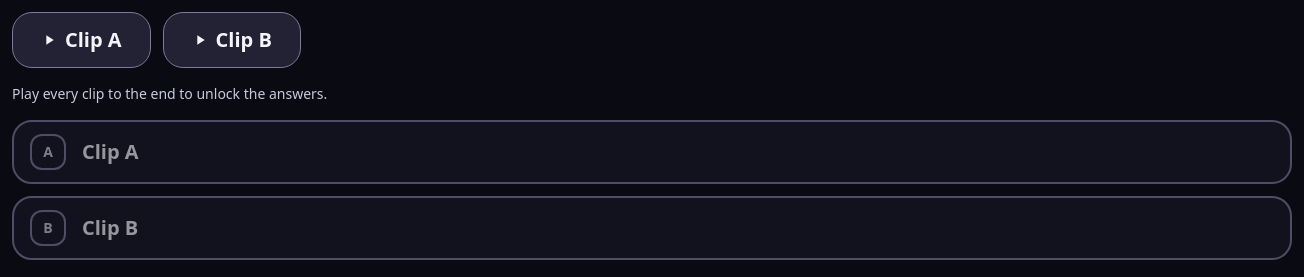
Test case: ByEar: gating the options › keeps the options disabled until every clip has been played to the end
Expected: the button "A Clip A" is disabled, [12,120,1292,184]
Expected: the text "Play every clip to the end to unlock the answers." is shown, [12,84,327,103]
Click the button with aria-label "Play clip A" at [81, 40], box [12,12,151,68]
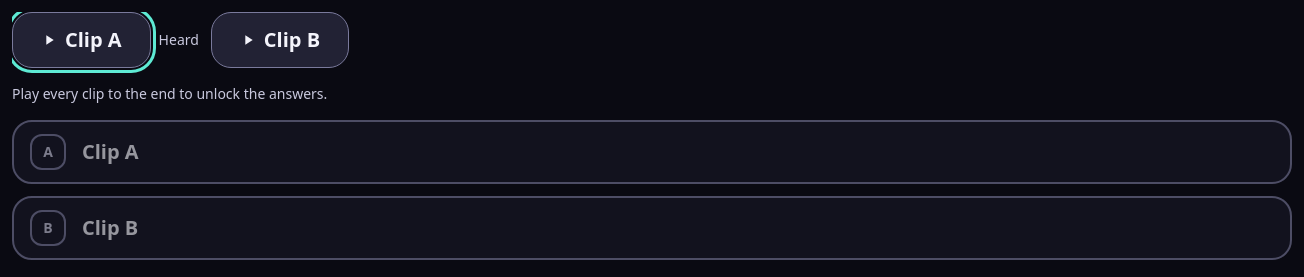
Expected: the button "A Clip A" is disabled, [12,120,1292,184]
Click the button with aria-label "Play clip B" at [280, 40], box [211,12,349,68]
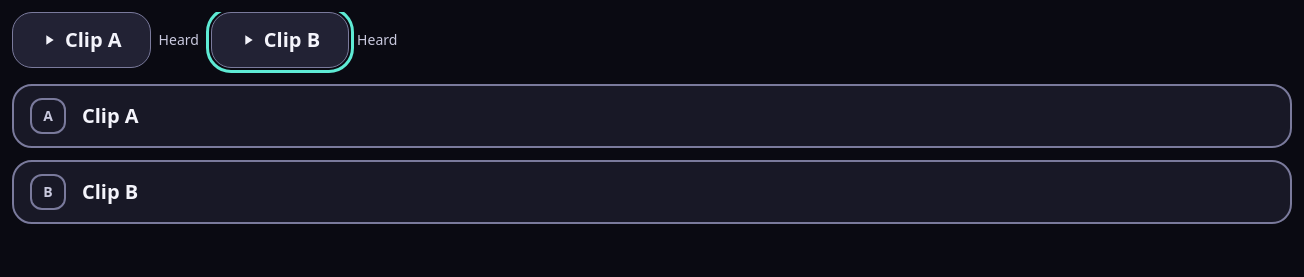
Expected: the button "A Clip A" is enabled, [12,84,1292,148]
Expected: the button "B Clip B" is enabled, [12,160,1292,224]
Expected: the text "Heard" is shown 2 times, [159,30,199,50]; [357,30,397,50]
